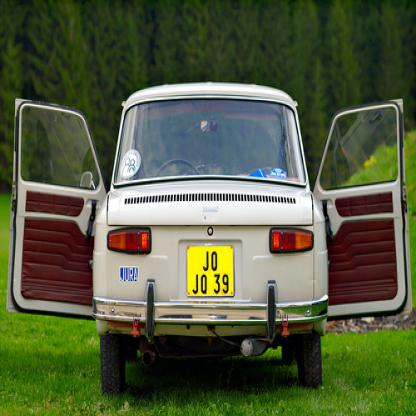car: (5, 80, 413, 395)
